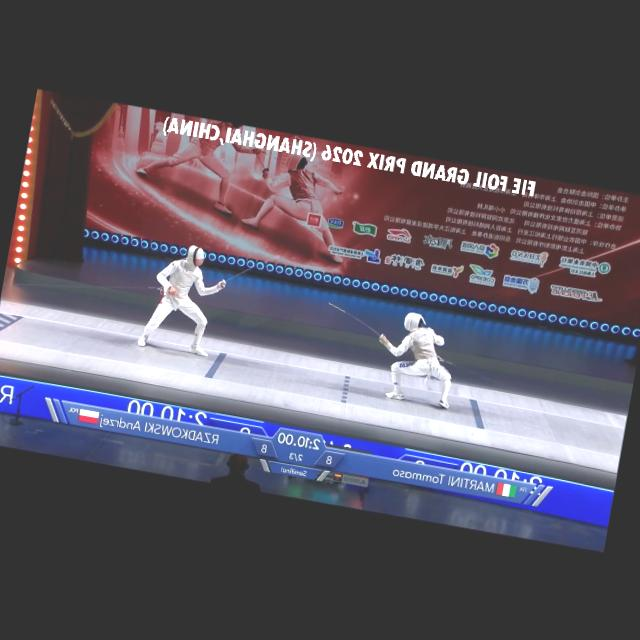blade: (320, 300, 398, 346), (217, 244, 280, 298)
